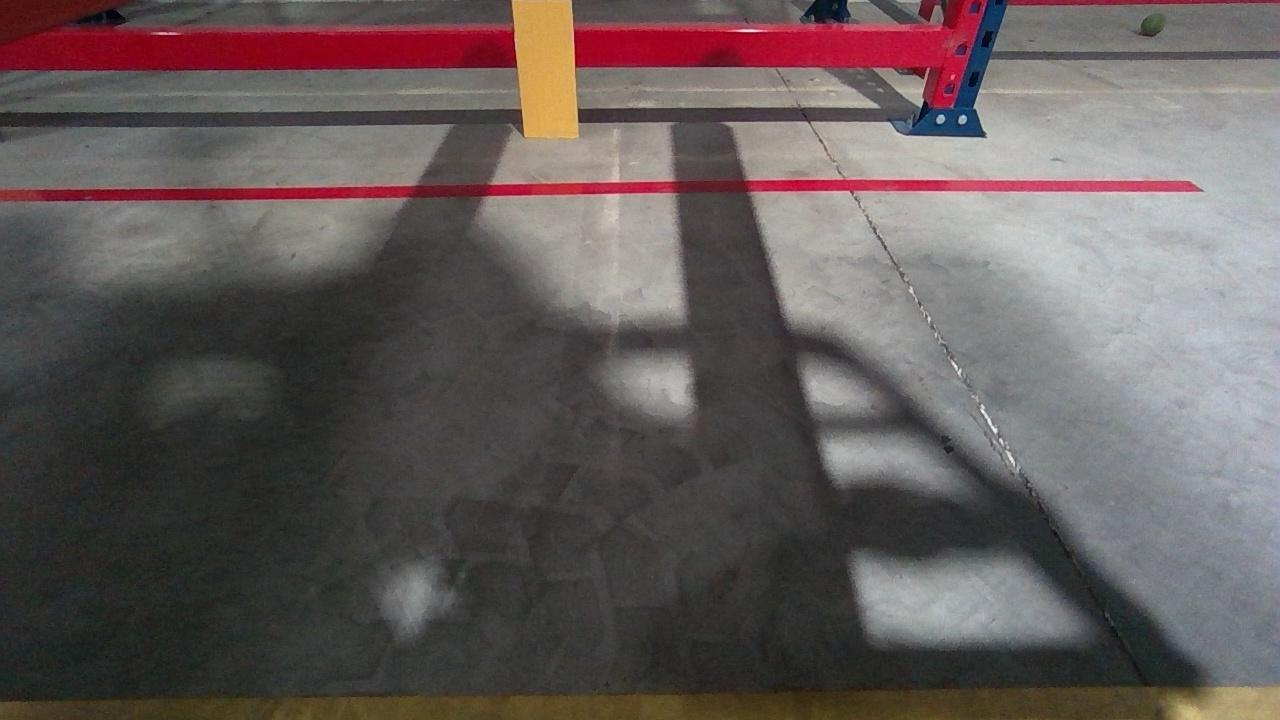orange_strip: (510, 1, 577, 137)
red_line: (20, 175, 1208, 202)
yellow_line: (21, 688, 1280, 719)
